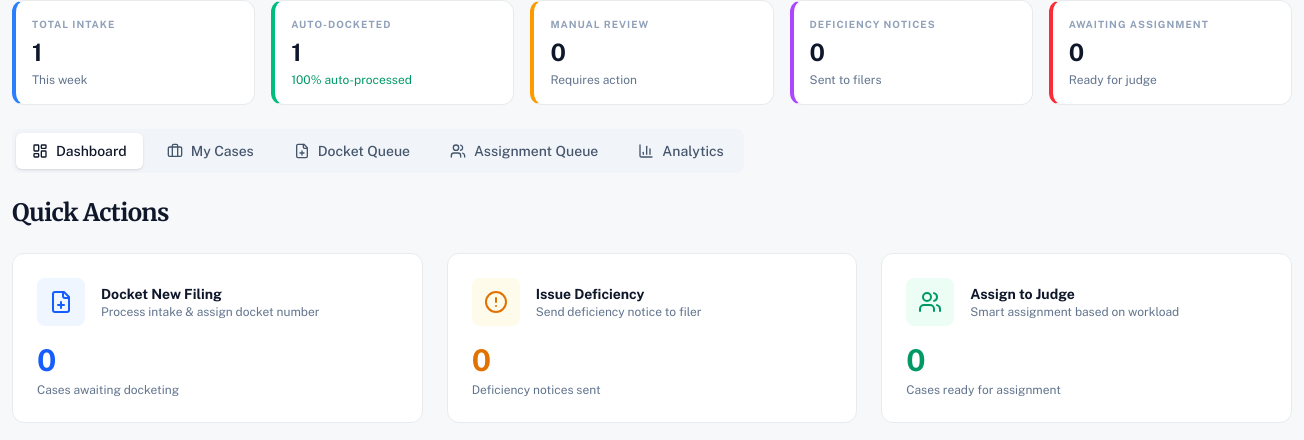
Test: DocketClerkDashboard › renders queue data from the api hook
The image size is (1304, 440).
Click the button "Docket Queue" at (352, 151), box [278,133,426,169]
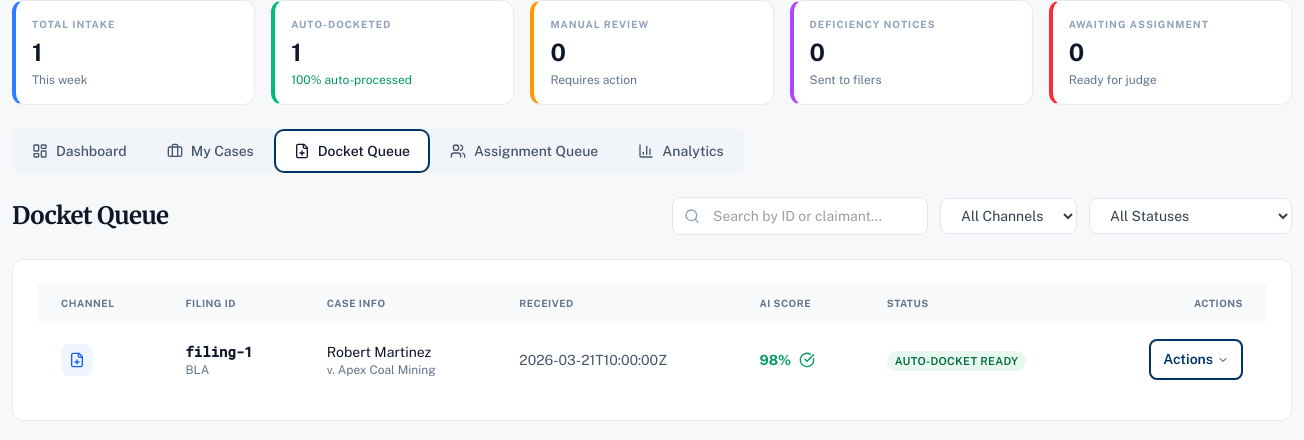
Expected: the text "Total Intake" is shown, [32,18,115,30]
Expected: the text "Robert Martinez" is shown, [327,344,431,360]
